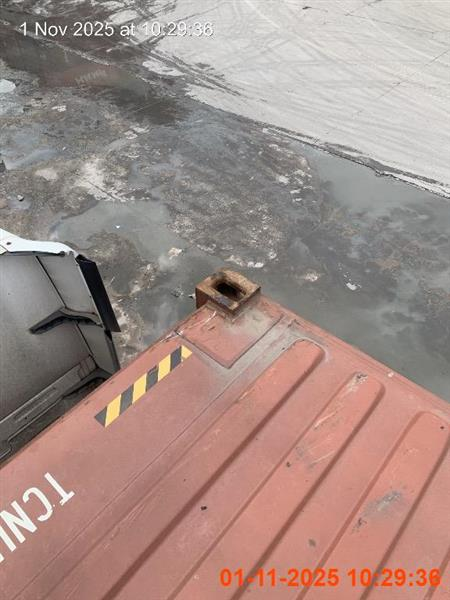scratch: (0, 229, 449, 598)
